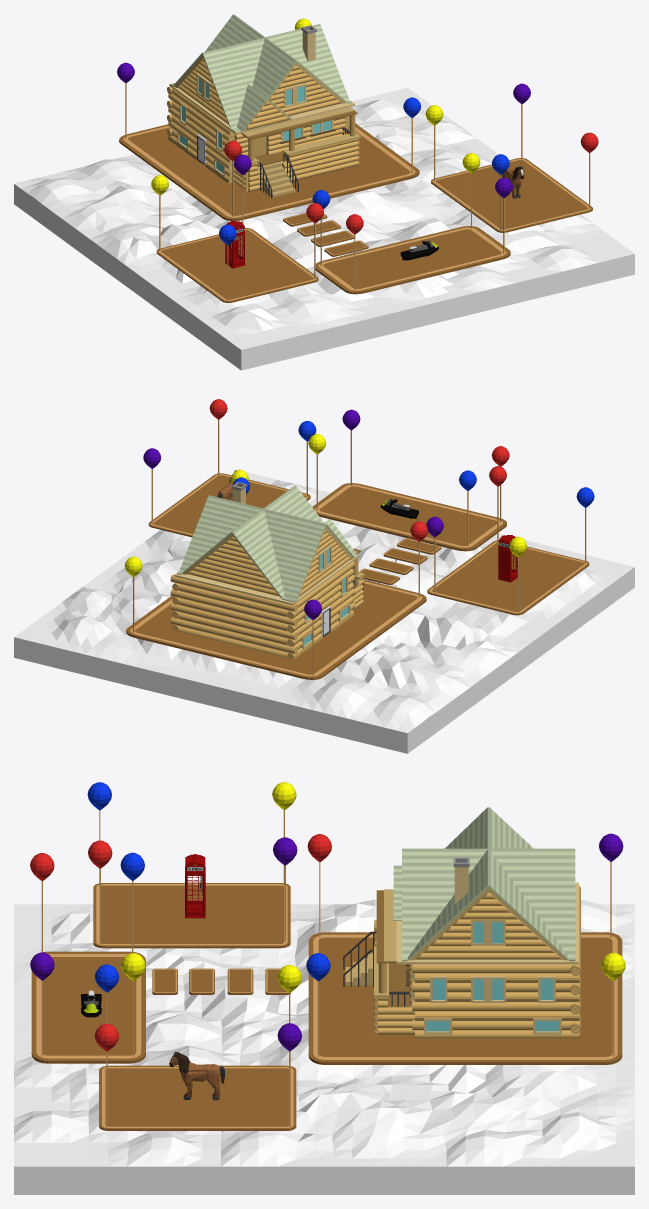
3 views of the same model, one above another, from view 1: azimuth 30°, elevation 25°; view 2: azimuth 150°, elevation 25°; view 3: azimuth 270°, elevation 25° (orthographic). The views are drawn at different scales.
Parts seen in each view (by area): view 1: Cube.013, Cube.1516, OBJRANDOM_PHONEBOOTH; view 2: Cube.013, Cube.1516, OBJRANDOM_PHONEBOOTH; view 3: Cube.013, Cube.1516, ANIMAL_CABALLO, OBJRANDOM_PHONEBOOTH.
Boxes of the visible parts, box(x1,y1,x2,y2) form: Cube.013: box(14, 18, 634, 370); Cube.1516: box(167, 14, 360, 198); OBJRANDOM_PHONEBOOTH: box(225, 221, 245, 268); Cube.013: box(14, 399, 634, 753); Cube.1516: box(170, 482, 364, 659); OBJRANDOM_PHONEBOOTH: box(498, 535, 517, 582); Cube.013: box(14, 782, 634, 1194); Cube.1516: box(343, 807, 580, 1038); ANIMAL_CABALLO: box(169, 1051, 224, 1100); OBJRANDOM_PHONEBOOTH: box(185, 854, 205, 918).
Bounding box in the file's own units: 4000 × 1789 × 4000.
40 materials, 2 textured.
